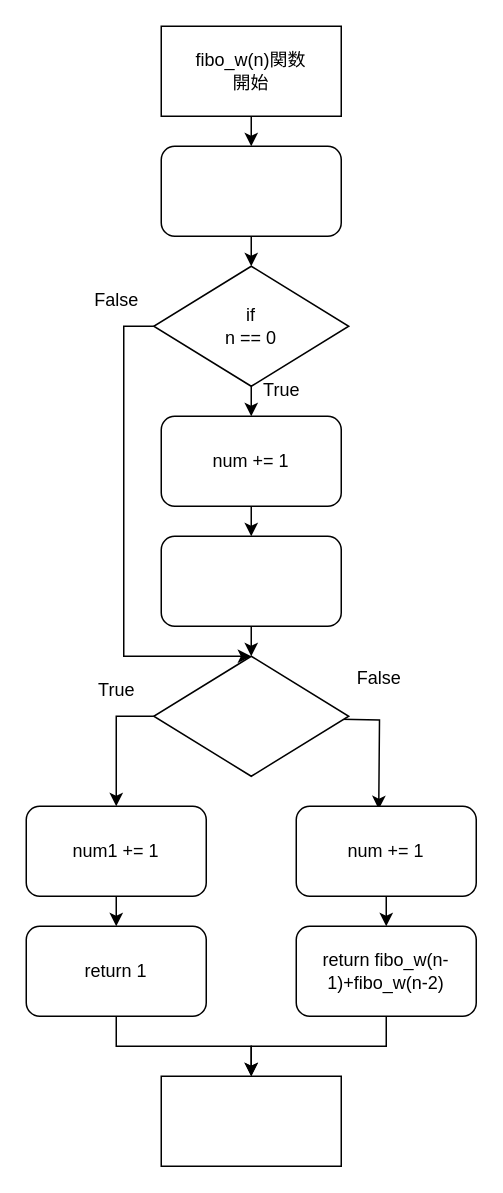
Some shapes in this 503 by 1193 pixel diagram are drawn without their labels. Here are the shapes that lost their labels. From the top down, the centre of each, then its label:
point (250, 190): global num1
point (250, 580): return 0
point (250, 715): elif n == 1
point (250, 1120): 終了
